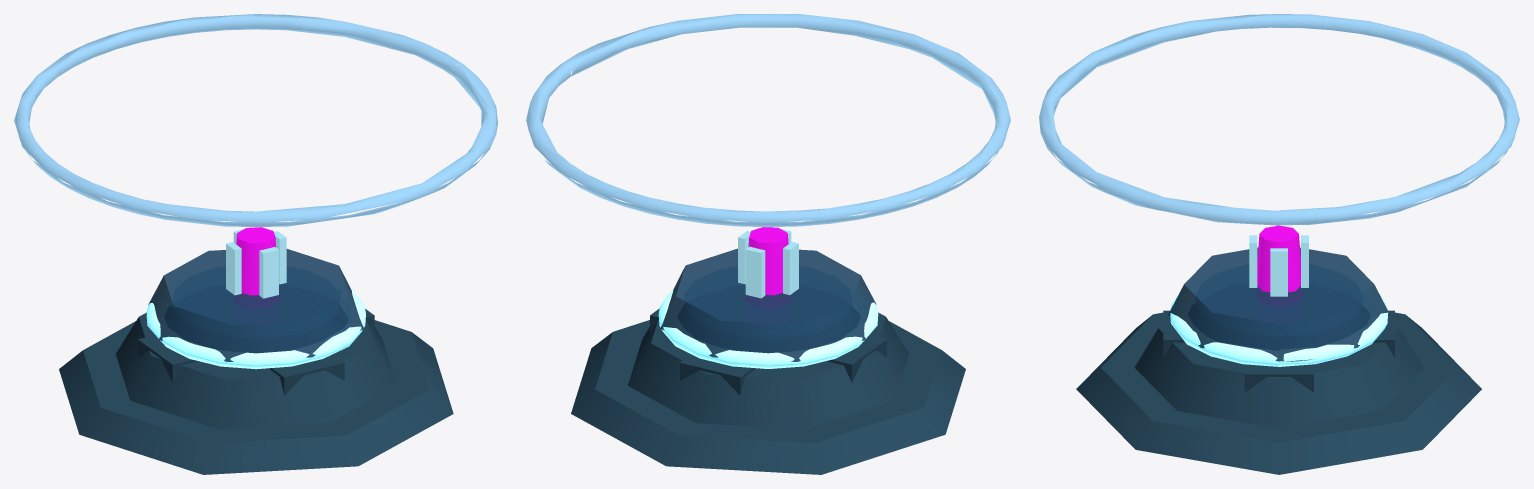
The model's file is sci-fi-fountain.collider.glb.
The picture shows the model from 3 angles, left to right: view 1: azimuth 30°, elevation 25°; view 2: azimuth 150°, elevation 25°; view 3: azimuth 270°, elevation 25°; orthographic projection.
Visible parts, largest first — view 1: courtyard-fountain-body, upper-halo, courtyard-fountain-transparent|#1a3d5a|#17384a|0.08|0.55|0.2, water-ring, courtyard-fountain-emissive, core; view 2: courtyard-fountain-body, upper-halo, courtyard-fountain-transparent|#1a3d5a|#17384a|0.08|0.55|0.2, water-ring, courtyard-fountain-emissive, core; view 3: courtyard-fountain-body, upper-halo, courtyard-fountain-transparent|#1a3d5a|#17384a|0.08|0.55|0.2, water-ring, core, courtyard-fountain-emissive.
Boxes of the visible parts, x1,y1,x2,y2 form: courtyard-fountain-body: (59, 308, 453, 474); upper-halo: (14, 14, 497, 226); courtyard-fountain-transparent|#1a3d5a|#17384a|0.08|0.55|0.2: (148, 249, 363, 361); water-ring: (146, 291, 365, 369); courtyard-fountain-emissive: (226, 229, 286, 298); core: (236, 227, 276, 295); courtyard-fountain-body: (571, 308, 965, 474); upper-halo: (526, 14, 1010, 227); courtyard-fountain-transparent|#1a3d5a|#17384a|0.08|0.55|0.2: (660, 248, 876, 361); water-ring: (658, 290, 878, 368); courtyard-fountain-emissive: (738, 229, 798, 298); core: (748, 227, 788, 295); courtyard-fountain-body: (1076, 310, 1481, 474); upper-halo: (1039, 14, 1519, 225); courtyard-fountain-transparent|#1a3d5a|#17384a|0.08|0.55|0.2: (1168, 247, 1389, 361); water-ring: (1170, 294, 1388, 366); core: (1257, 225, 1300, 292); courtyard-fountain-emissive: (1249, 226, 1308, 296).
Bounding box in the file's own units: 4.86 × 3.08 × 4.85.
7 materials, 7 textured.
